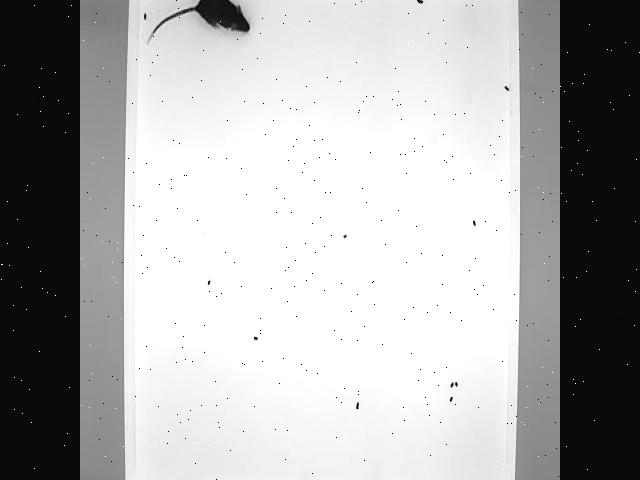Tikus: (145, 0, 251, 53)
